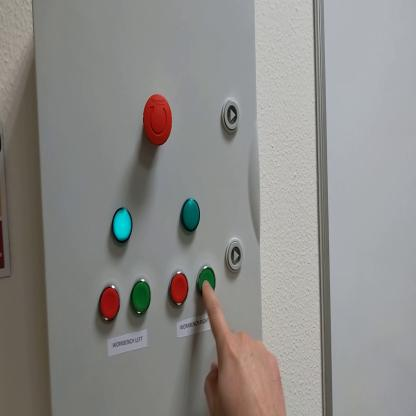hand: (202, 283, 287, 416)
left green button: (131, 279, 153, 318)
left red button: (98, 287, 123, 325)
right green button: (198, 264, 217, 297)
right red button: (169, 274, 191, 309)
